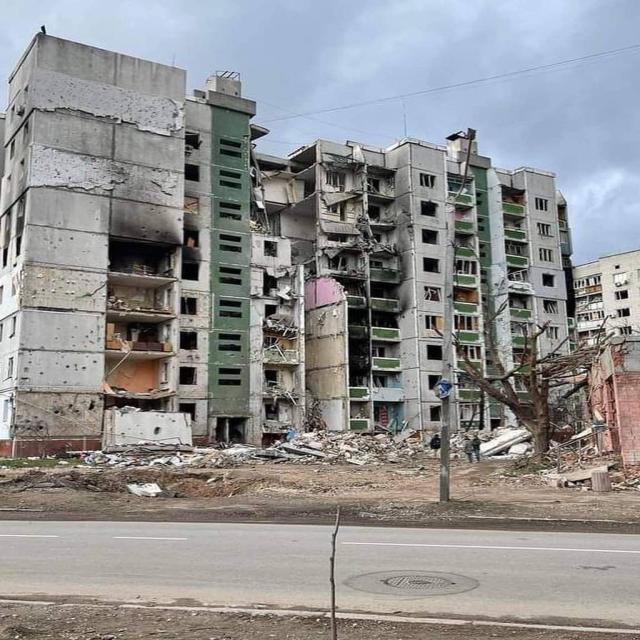building: (1, 25, 577, 458)
